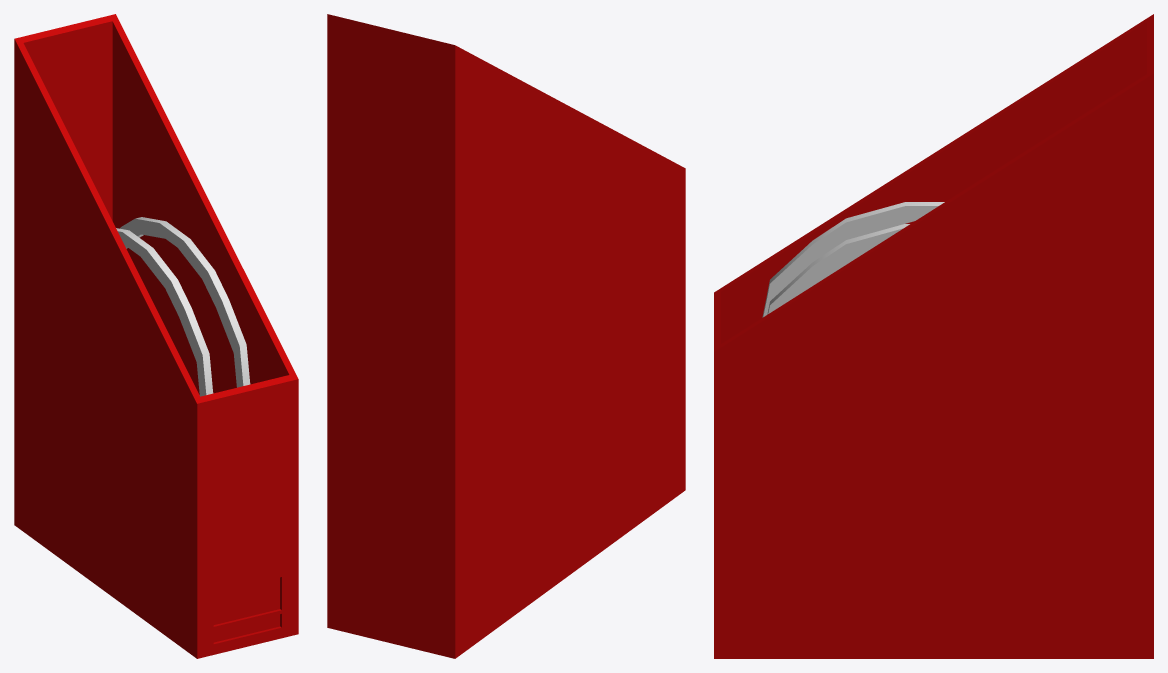
File: Hea_Player_Folder.fbx
The picture shows the model from 3 angles, left to right: view 1: azimuth 30°, elevation 25°; view 2: azimuth 150°, elevation 25°; view 3: azimuth 270°, elevation 25°; orthographic projection. The views are drawn at different scales.
Parts seen in each view (by area): view 1: FileHolder_I1.001; view 2: FileHolder_I1.001; view 3: FileHolder_I1.001.
Boxes of the visible parts, <box> form: FileHolder_I1.001: <box>14,14,298,658</box>; FileHolder_I1.001: <box>327,14,685,658</box>; FileHolder_I1.001: <box>714,14,1153,658</box>.
Size of the model in its own units: 7.07 by 32.43 by 22.07.
